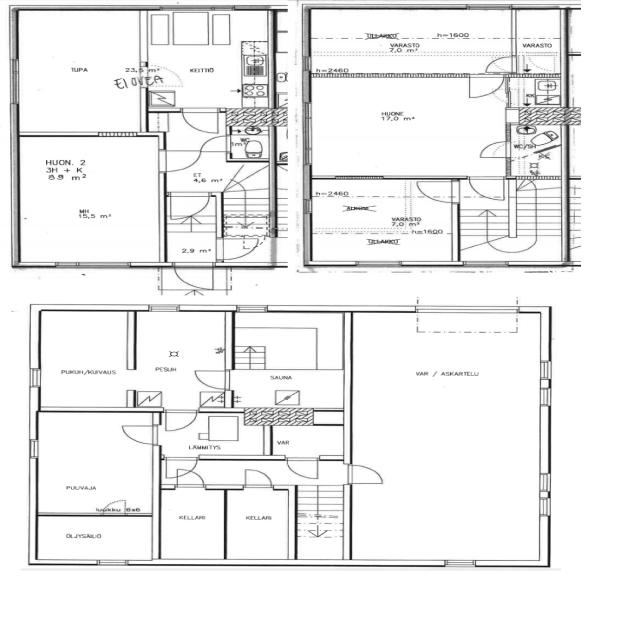door: (164, 186, 218, 262), (170, 260, 225, 294), (164, 189, 214, 223), (161, 455, 204, 490), (410, 178, 460, 205), (156, 146, 203, 174), (343, 462, 390, 488), (464, 73, 509, 100), (215, 236, 263, 261), (180, 106, 222, 134), (466, 174, 509, 201), (283, 454, 323, 482), (158, 408, 200, 433), (118, 421, 160, 446), (190, 367, 234, 390), (238, 468, 277, 492), (147, 64, 185, 87), (174, 467, 207, 490), (521, 54, 563, 72), (477, 139, 511, 160), (483, 54, 518, 74), (198, 134, 232, 153)
window: (534, 358, 558, 411), (46, 260, 144, 272), (416, 304, 525, 314), (534, 471, 556, 520), (147, 4, 241, 15), (299, 99, 317, 148), (345, 260, 418, 270), (438, 558, 484, 572), (23, 433, 45, 462), (26, 364, 47, 391), (459, 261, 512, 270), (90, 558, 133, 569), (299, 52, 317, 74), (143, 304, 182, 314), (234, 304, 271, 314)
zone: (348, 310, 548, 568), (306, 77, 508, 178), (16, 134, 162, 268), (15, 8, 148, 137), (305, 7, 518, 79), (304, 177, 456, 263), (36, 411, 155, 517), (145, 10, 272, 109), (232, 311, 346, 414), (35, 308, 136, 413), (133, 308, 232, 411), (32, 514, 154, 564), (224, 487, 295, 561), (158, 487, 227, 563), (154, 414, 269, 459), (167, 189, 221, 268), (510, 120, 566, 174), (513, 7, 564, 65), (227, 110, 273, 161), (295, 519, 347, 561), (507, 72, 566, 106)
